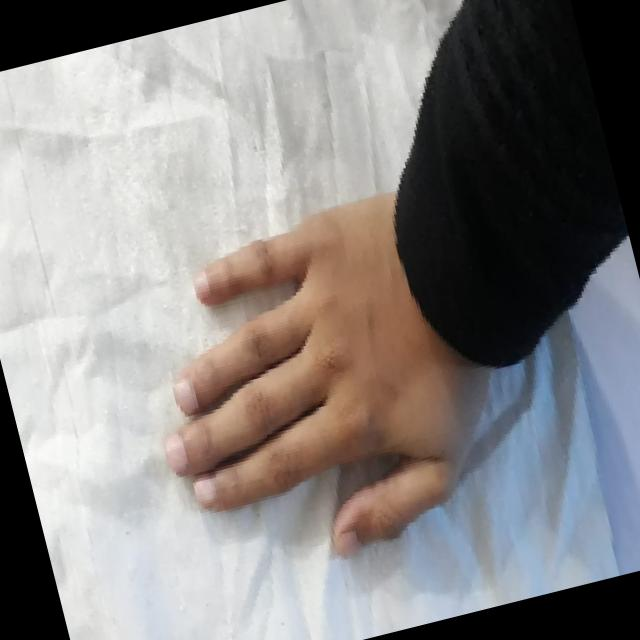Nail: (163, 431, 188, 472), (171, 377, 198, 412), (334, 529, 362, 556), (193, 475, 216, 503), (193, 268, 210, 298)
